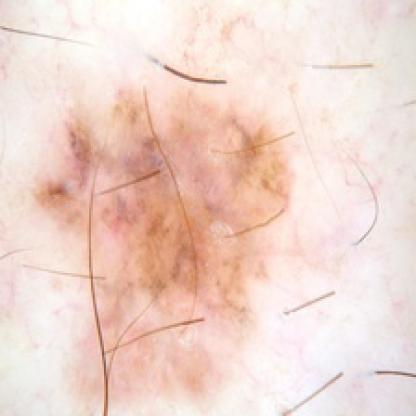malignant: (39, 85, 293, 303)
